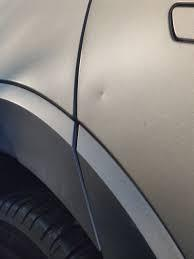dent: (92, 82, 110, 112)
